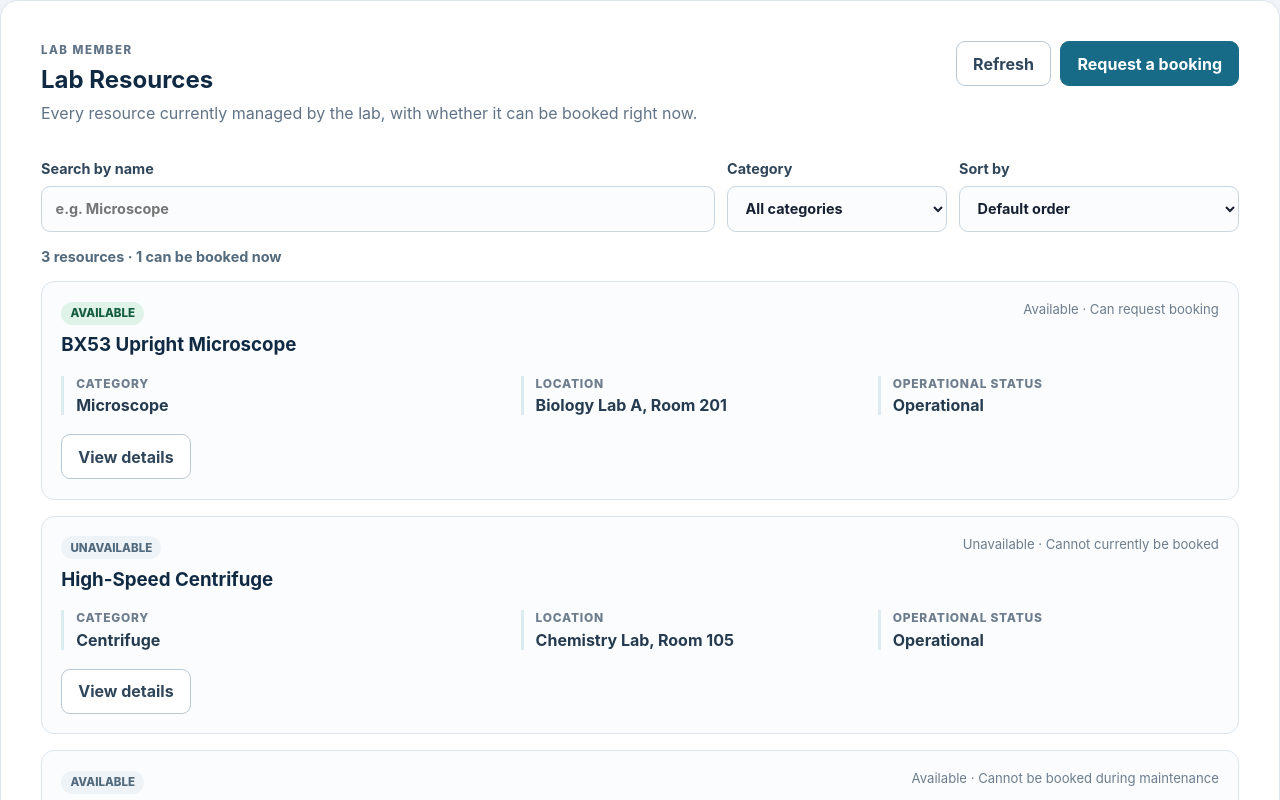
Test: US-3 view resource details › shows the description, location, responsible person, availability, and current status
Expected: the element "BX53 Upright Microscope" is shown, [41,281,1239,500]
Click the button "View details" below "BX53 Upright Microscope".
click(126, 457)  # box [61,434,191,479]
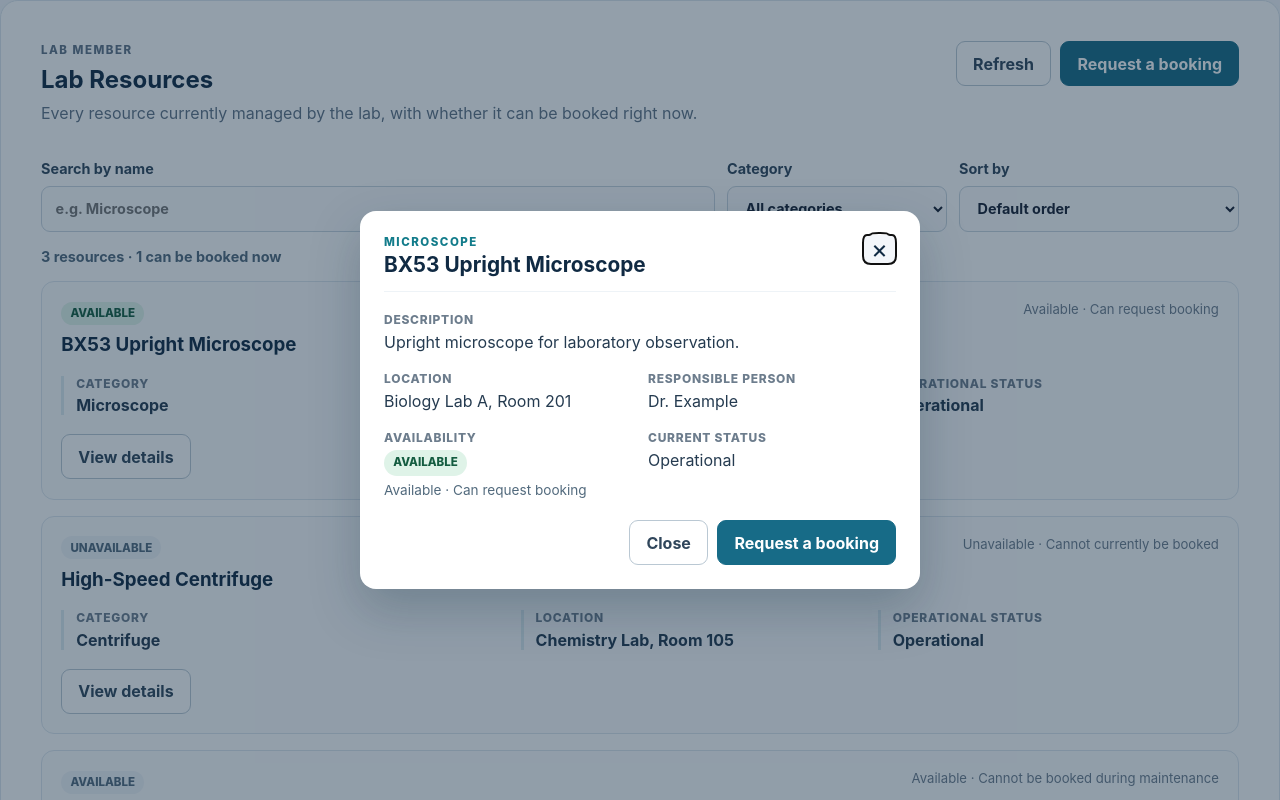
Result: the text "Upright microscope for laboratory observation." is shown at [384,332,739,352]
Result: the text "Biology Lab A, Room 201" is shown at [384,391,571,411]
Result: the text "Dr. Example" is shown at [648,391,738,411]
